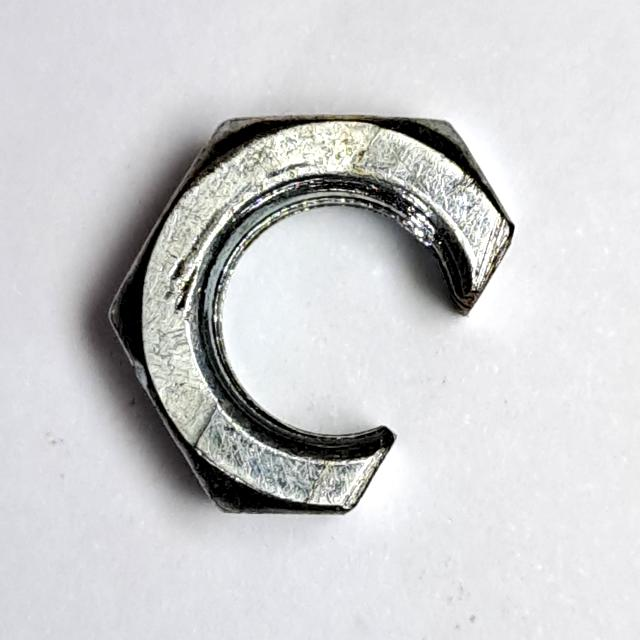Fracture: (91, 100, 527, 533)
